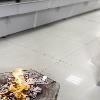fire: (0, 67, 29, 100)
